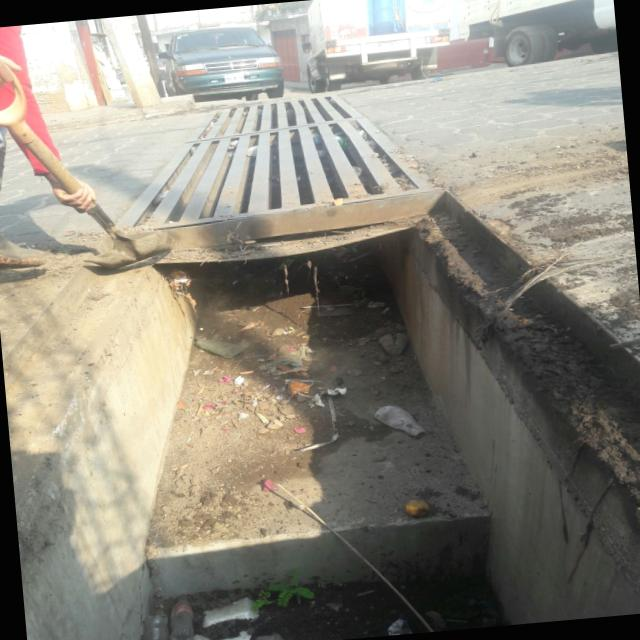garbage: (99, 240, 500, 547)
